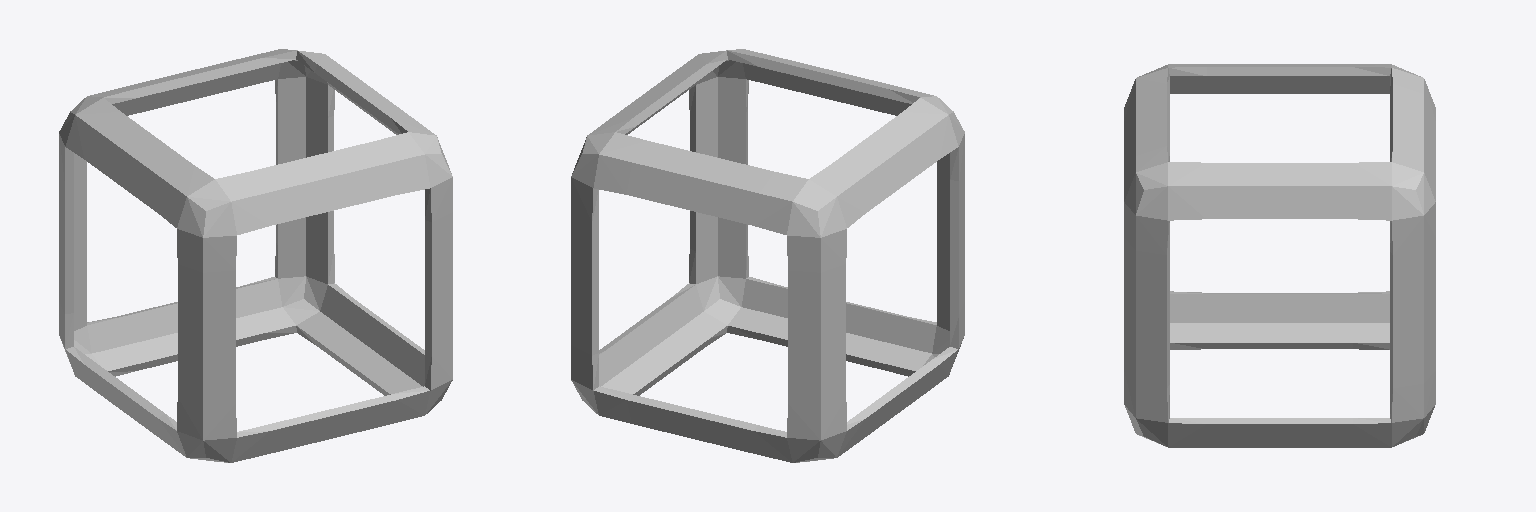
File: FactoryConnectorFrame.obj
The picture shows the model from 3 angles: view 1: azimuth 30°, elevation 25°; view 2: azimuth 150°, elevation 25°; view 3: azimuth 270°, elevation 25°; orthographic projection.
Visible parts, largest first — view 1: TubeConnector2 TubeConnectorBox1 CloudMaker1 HouseBase1; view 2: TubeConnector2 TubeConnectorBox1 CloudMaker1 HouseBase1; view 3: TubeConnector2 TubeConnectorBox1 CloudMaker1 HouseBase1.
Part boxes in pixels (bbox=[...]): TubeConnector2 TubeConnectorBox1 CloudMaker1 HouseBase1: bbox=[59, 49, 452, 462]; TubeConnector2 TubeConnectorBox1 CloudMaker1 HouseBase1: bbox=[571, 49, 964, 462]; TubeConnector2 TubeConnectorBox1 CloudMaker1 HouseBase1: bbox=[1124, 64, 1435, 447].
Size of the model in its own units: 4.31 by 4.31 by 4.31.